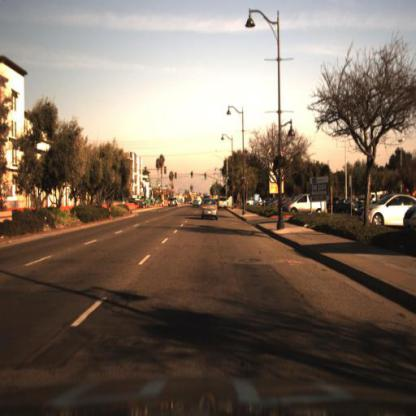car: (285, 189, 328, 222), (285, 195, 328, 217), (199, 197, 221, 222), (217, 194, 230, 212)
